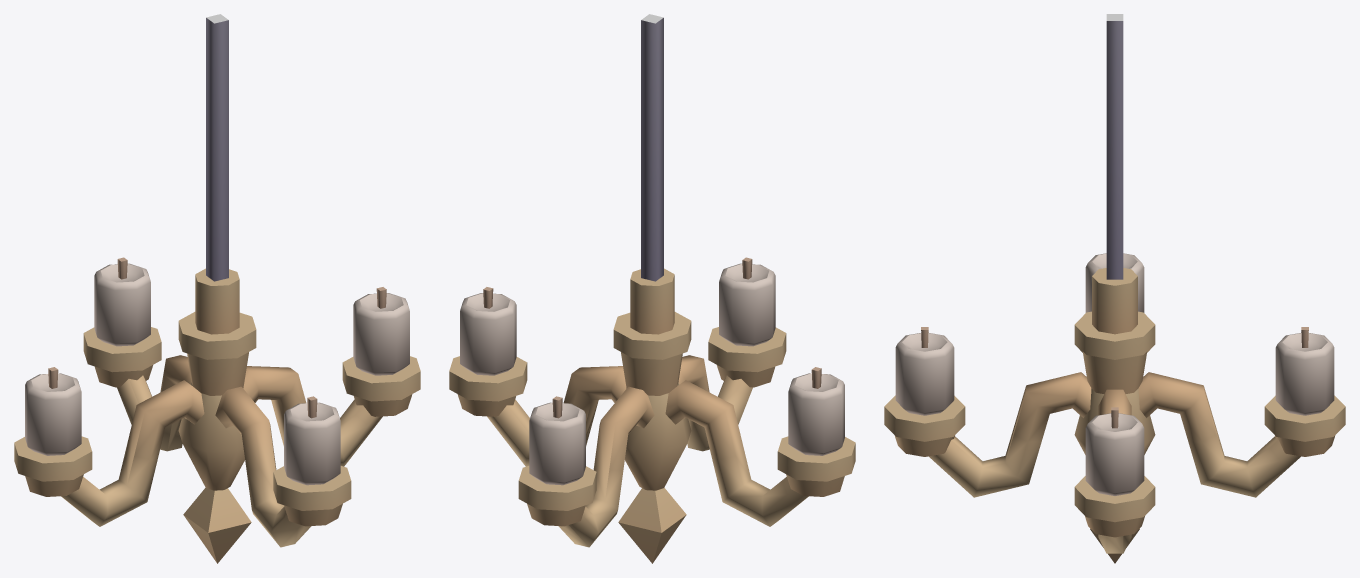
File: chandelier (%ceiling).glb
3 renders of one model, left to right at view 1: azimuth 30°, elevation 25°; view 2: azimuth 150°, elevation 25°; view 3: azimuth 270°, elevation 25°, orthographic.
Visible parts, largest first — view 1: chandelier (%ceiling); view 2: chandelier (%ceiling); view 3: chandelier (%ceiling).
Part boxes in pixels (x1=…): chandelier (%ceiling): x1=14, y1=14, x2=420, y2=563; chandelier (%ceiling): x1=449, y1=14, x2=855, y2=563; chandelier (%ceiling): x1=884, y1=14, x2=1345, y2=563.
Size of the model in its own units: 0.6879 by 0.8995 by 0.6879.
